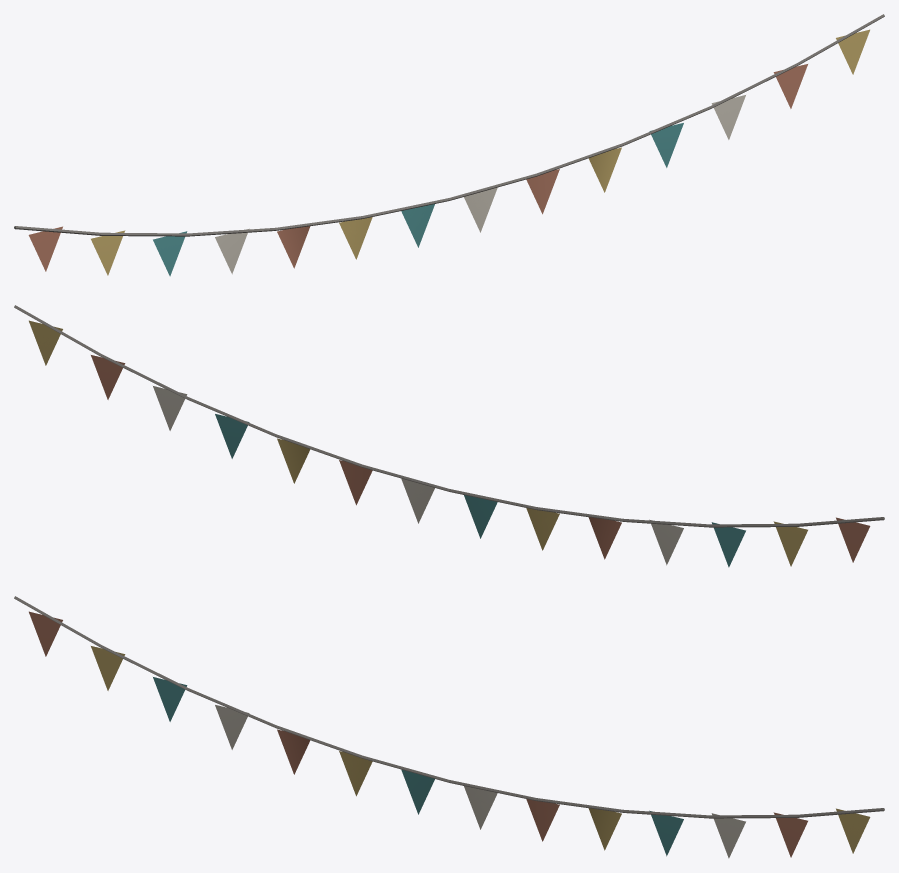
The model's file is bunting.glb.
3 renders of one model, top to bottom at view 1: azimuth 30°, elevation 25°; view 2: azimuth 150°, elevation 25°; view 3: azimuth 330°, elevation 25°, orthographic.
Parts seen in each view (by area): view 1: bunting; view 2: bunting; view 3: bunting.
Boxes of the visible parts, bbox=[...] form: bunting: bbox=[14, 14, 884, 276]; bunting: bbox=[14, 305, 884, 567]; bunting: bbox=[14, 596, 884, 858].
Size of the model in its own units: 7.01 by 0.9284 by 0.024.
